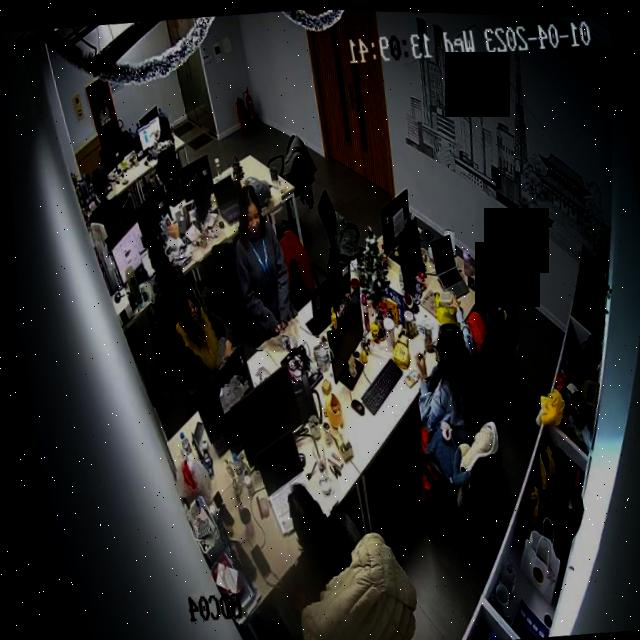person: (214, 174, 299, 352), (270, 475, 349, 593), (403, 315, 483, 431), (159, 274, 239, 390), (133, 229, 183, 303), (142, 113, 180, 185), (83, 173, 118, 221)
